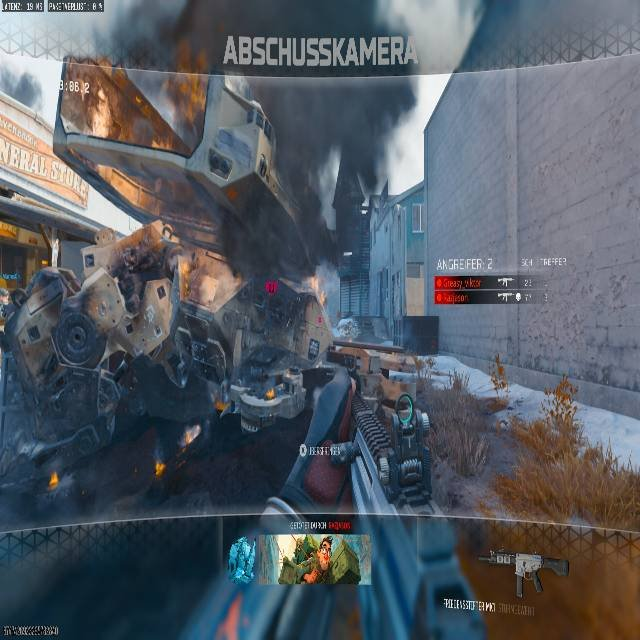head: (26, 266, 76, 317), (0, 287, 9, 301)
player: (0, 287, 11, 334), (340, 319, 358, 342)
